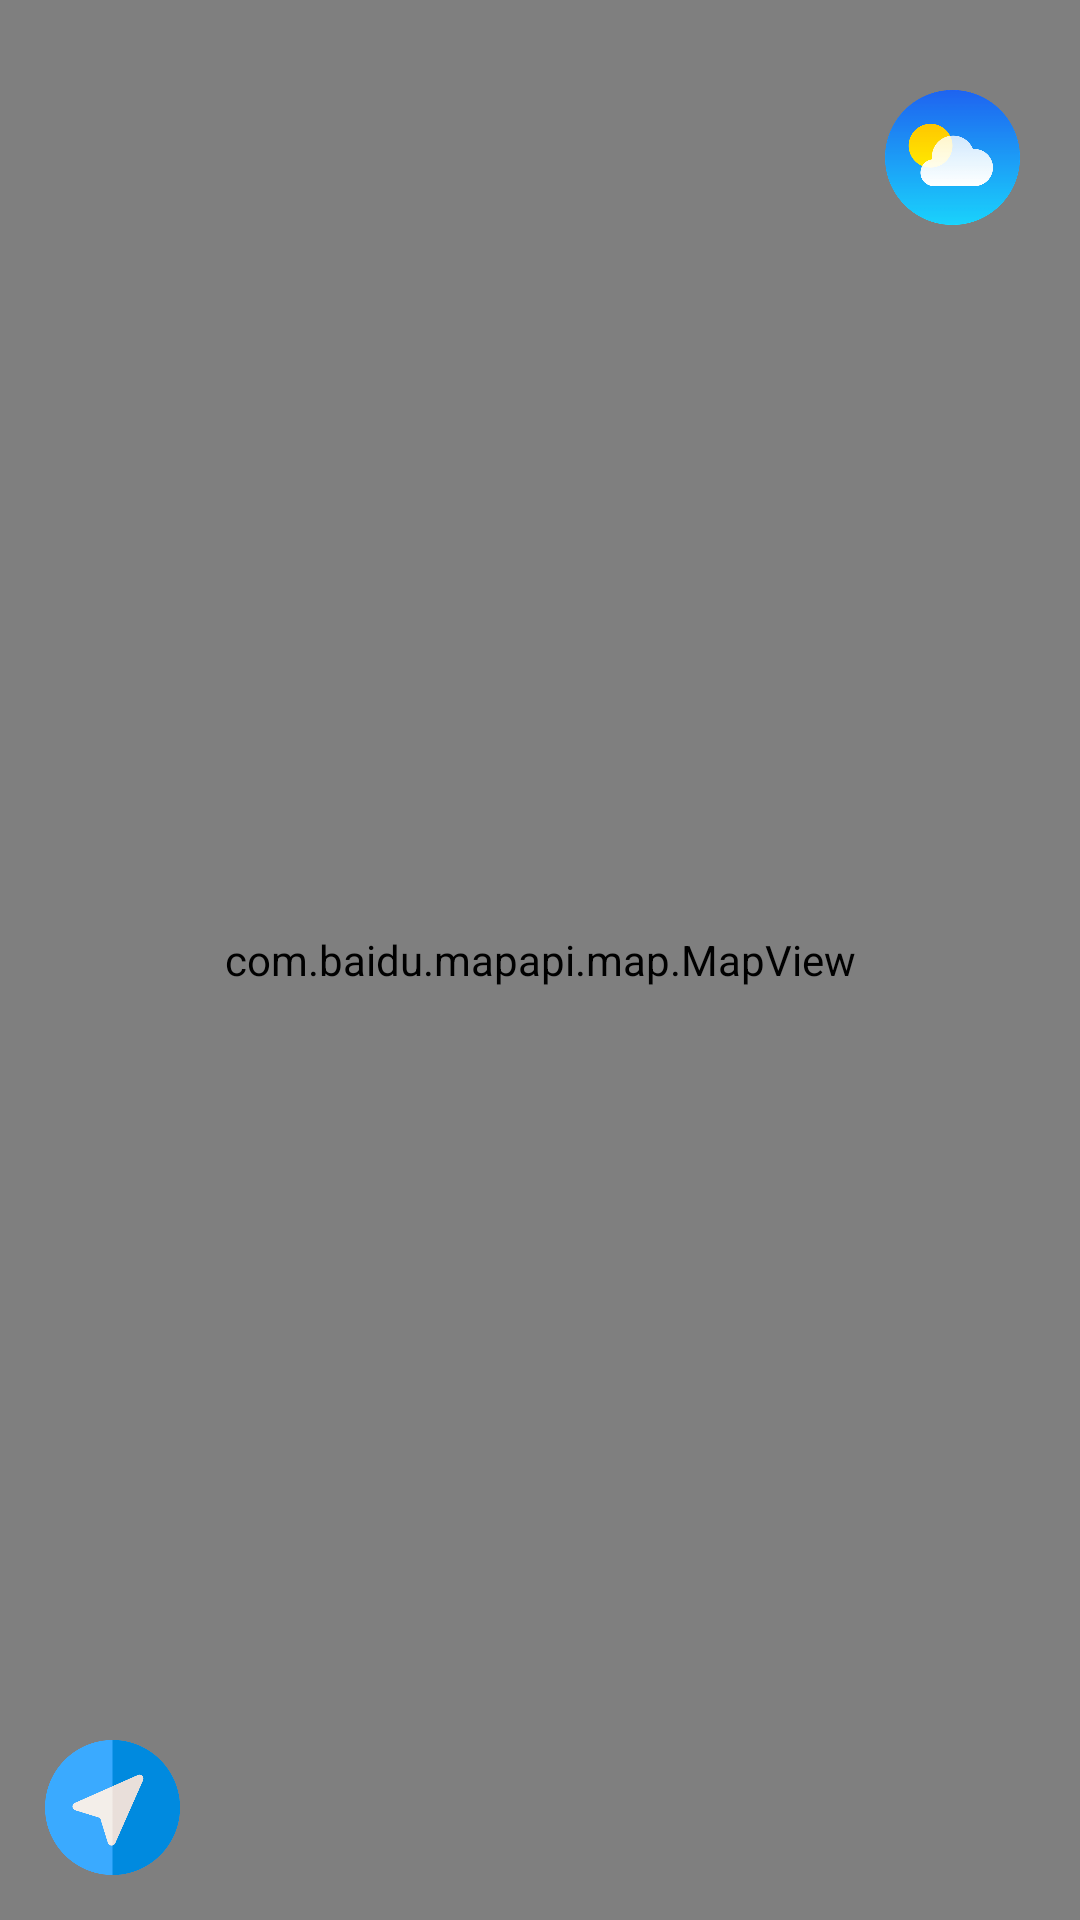

Icons on this 1080w x 1920h Android screen, each with its box as (x1, y1, x2, y2):
navigator round: (45, 1740, 180, 1875)
weather: (885, 90, 1020, 225)
